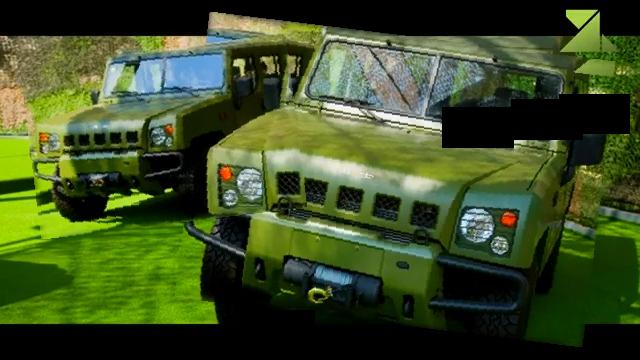MIL_HMMWV: (183, 24, 610, 336), (25, 41, 303, 231)
